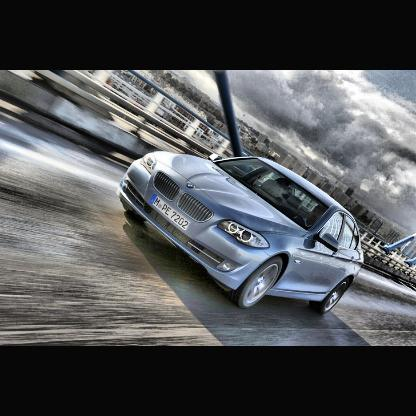BMW ActiveHybrid 5 Sedan 2012: (110, 147, 370, 319)
